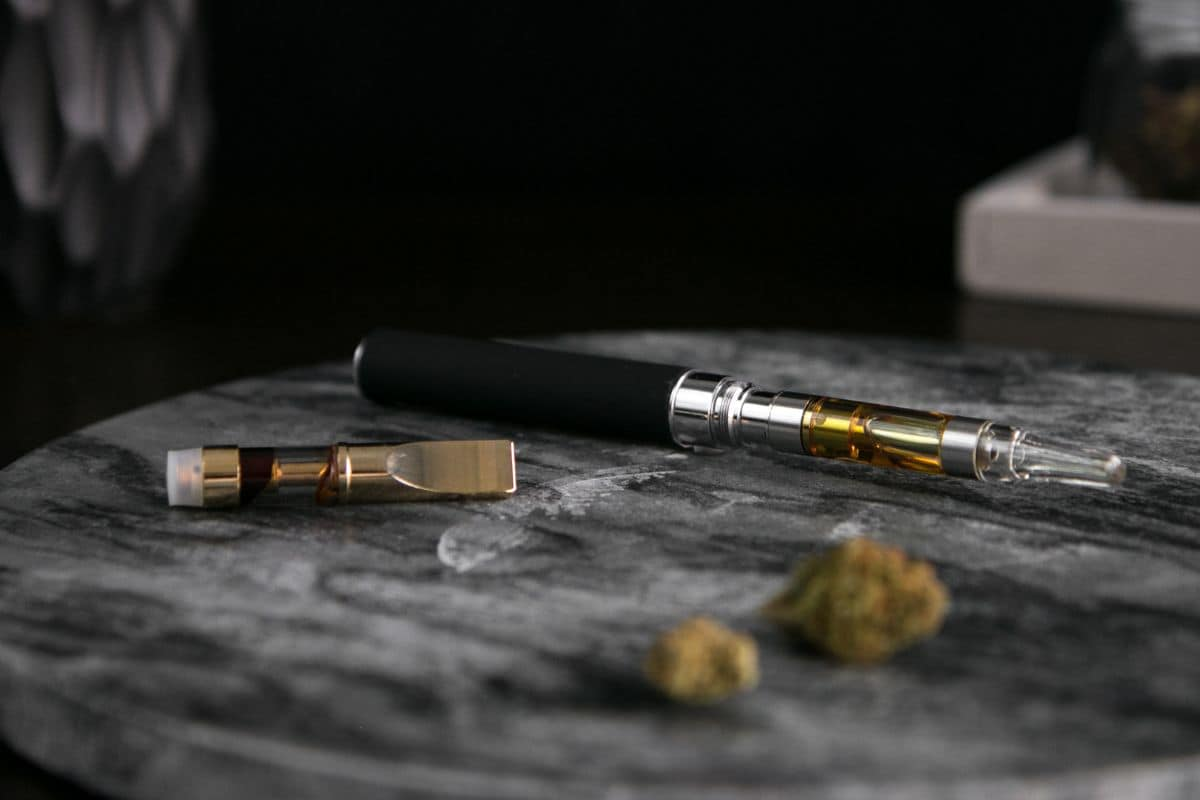weed_pen: (326, 240, 1185, 546)
